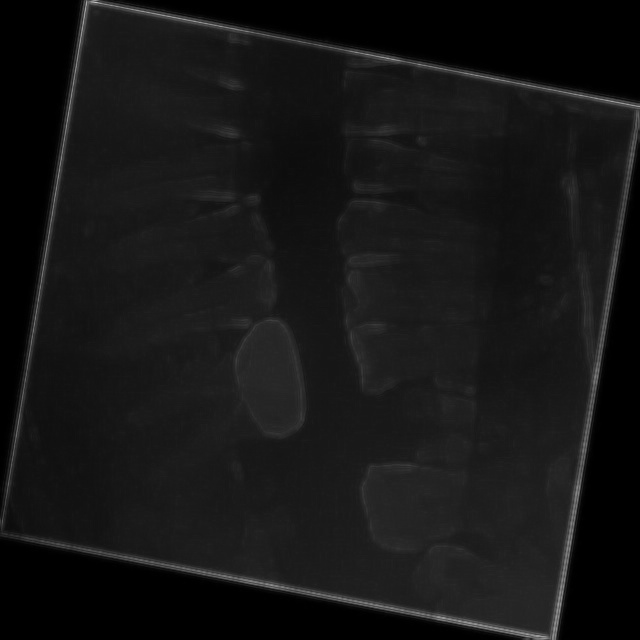Class 2- incomplete endodontic treatment: (88, 277, 335, 533)
